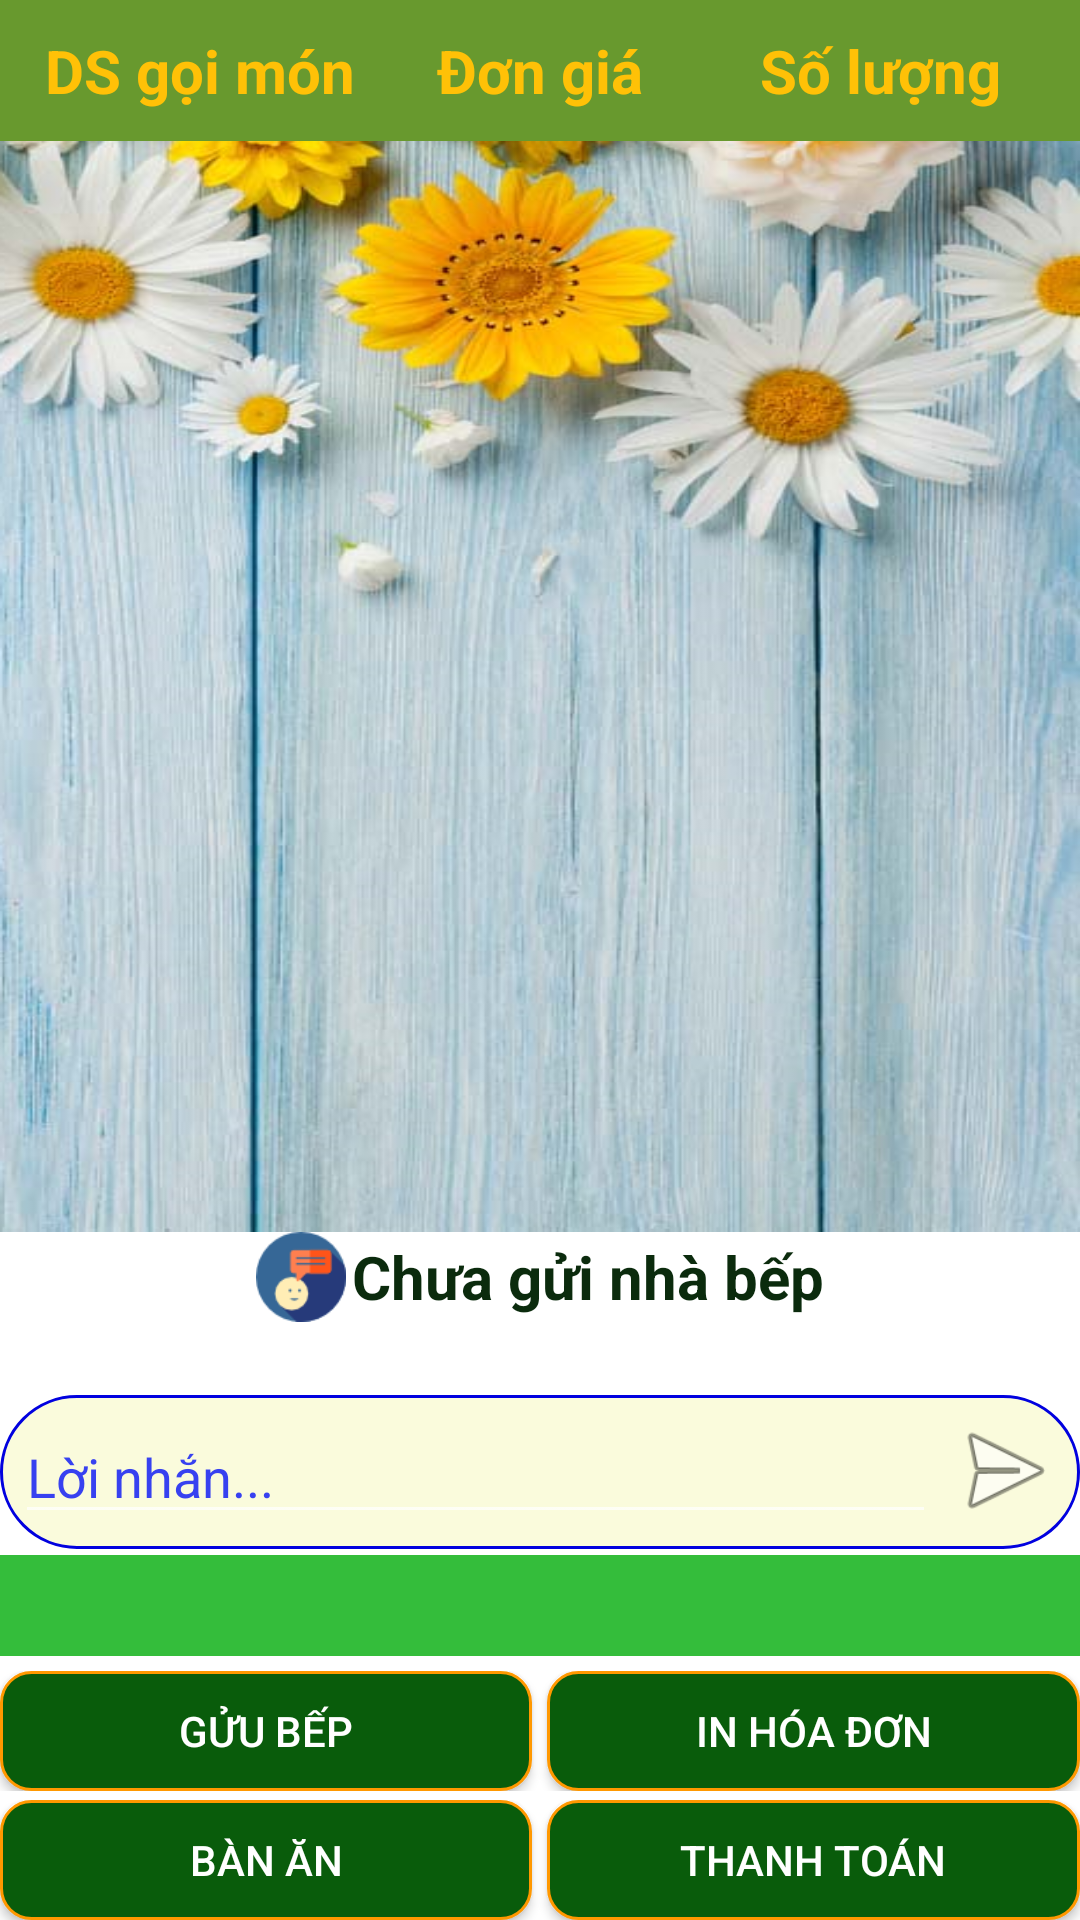

Locate icon controls on the screen. Image size 1080w x 1920h, boxes as [left=x1, top=y1, right=x2, bottom=y2].
send: [left=967, top=1433, right=1045, bottom=1509]
speaking: [left=256, top=1232, right=346, bottom=1322]
